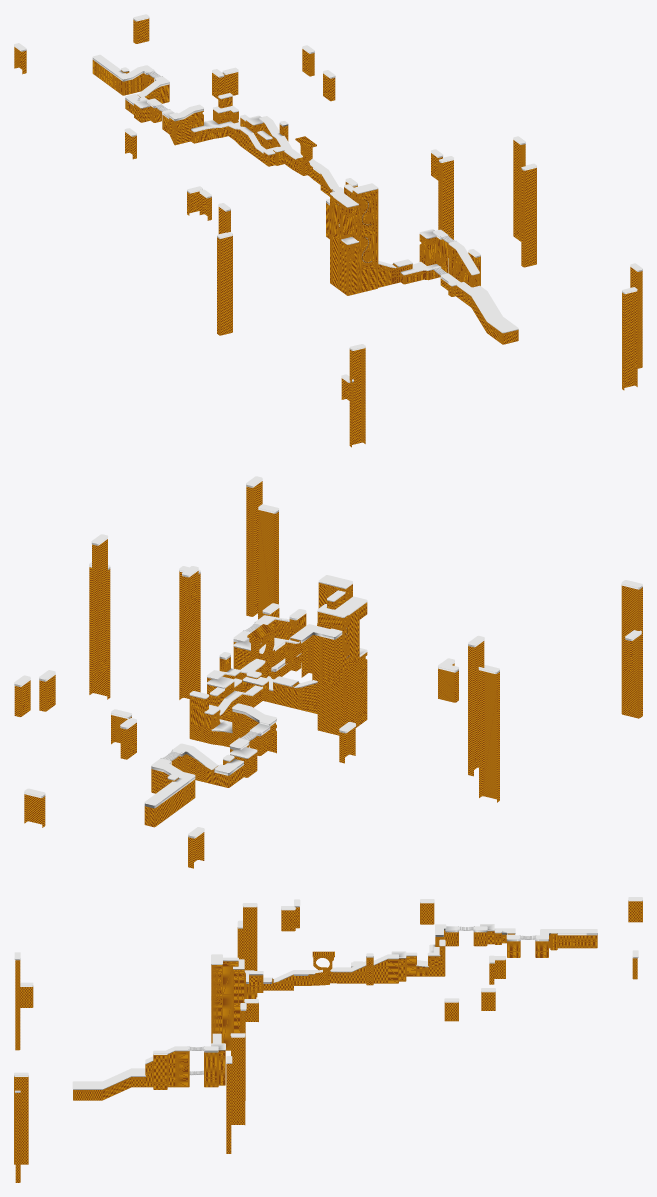
File: GreenHill.obj
3 renders of one model, top to bottom at view 1: azimuth 30°, elevation 25°; view 2: azimuth 150°, elevation 25°; view 3: azimuth 270°, elevation 25°, orthographic. The views are drawn at different scales.
Bounding box in the file's own units: 4623 × 2430 × 8679.
